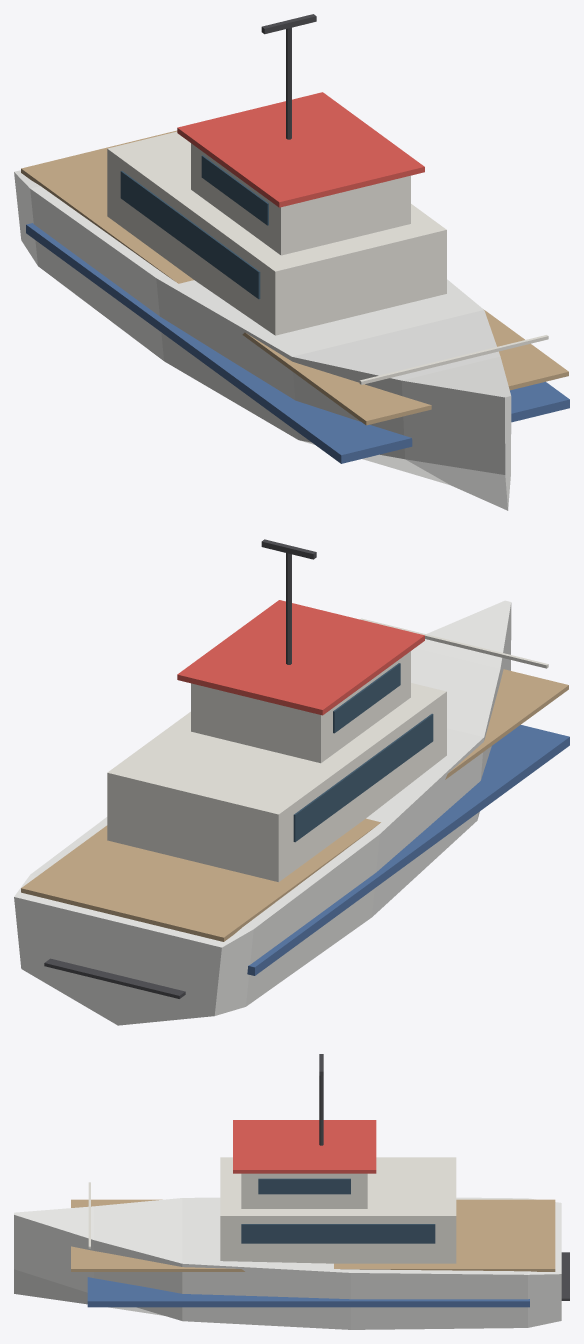
File: prop_boat_yacht.glb
The picture shows the model from 3 angles, top to bottom: view 1: azimuth 30°, elevation 25°; view 2: azimuth 150°, elevation 25°; view 3: azimuth 270°, elevation 25°; orthographic projection. The views are drawn at different scales.
Visible parts, largest first — view 1: hull, cabin, roof, deck, stripe, bridge, windows, bridgeglass, rail, mast; view 2: hull, cabin, deck, roof, bridge, stripe, windows, bridgeglass, swim, rail, mast; view 3: hull, cabin, deck, roof, stripe, windows, bridge, bridgeglass, swim.
Part boxes in pixels (x1,y1,x2,y2): hull: [14, 170, 511, 510]; cabin: [107, 131, 446, 335]; roof: [177, 92, 424, 207]; deck: [21, 130, 568, 425]; stripe: [26, 223, 569, 463]; bridge: [191, 143, 410, 255]; windows: [120, 171, 260, 299]; bridgeglass: [201, 155, 268, 225]; rail: [359, 335, 548, 384]; mast: [286, 27, 291, 139]; hull: [14, 600, 511, 1025]; cabin: [107, 683, 446, 882]; deck: [21, 669, 568, 941]; roof: [177, 600, 424, 715]; bridge: [191, 651, 410, 763]; stripe: [247, 725, 569, 975]; windows: [293, 713, 433, 842]; bridgeglass: [333, 663, 400, 733]; swim: [44, 958, 185, 998]; rail: [360, 618, 548, 668]; mast: [286, 553, 291, 664]; hull: [14, 1197, 561, 1329]; cabin: [220, 1157, 456, 1263]; deck: [71, 1199, 555, 1271]; roof: [233, 1120, 376, 1173]; stripe: [87, 1277, 529, 1307]; windows: [241, 1224, 435, 1243]; bridge: [241, 1173, 367, 1208]; bridgeglass: [258, 1178, 350, 1194]; swim: [561, 1252, 569, 1300].
Bounding box in the file's own units: 4.4 × 6.8 × 13.2.
